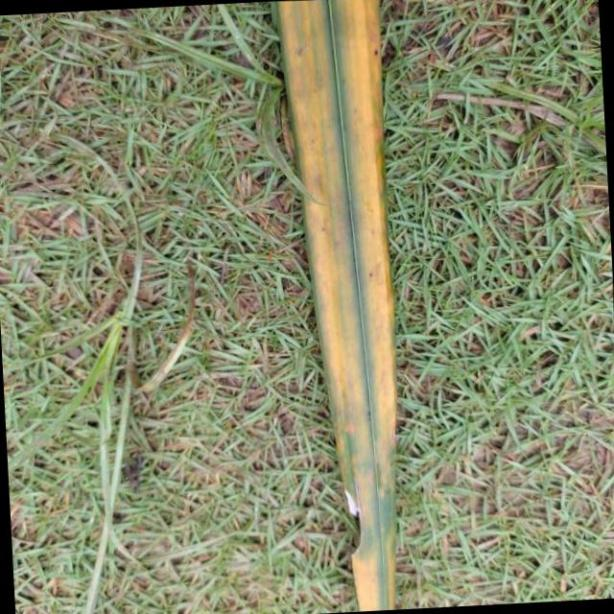Megnesium: (278, 0, 402, 614)
